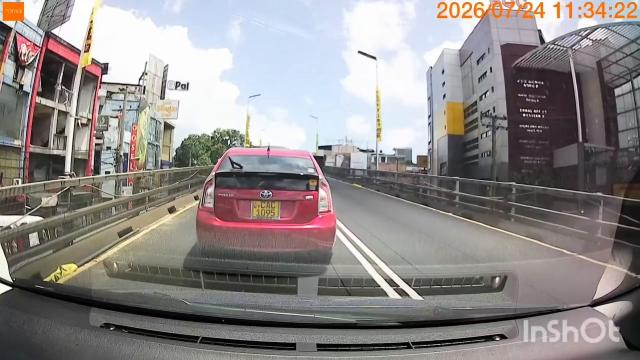number plate: (249, 197, 285, 223)
